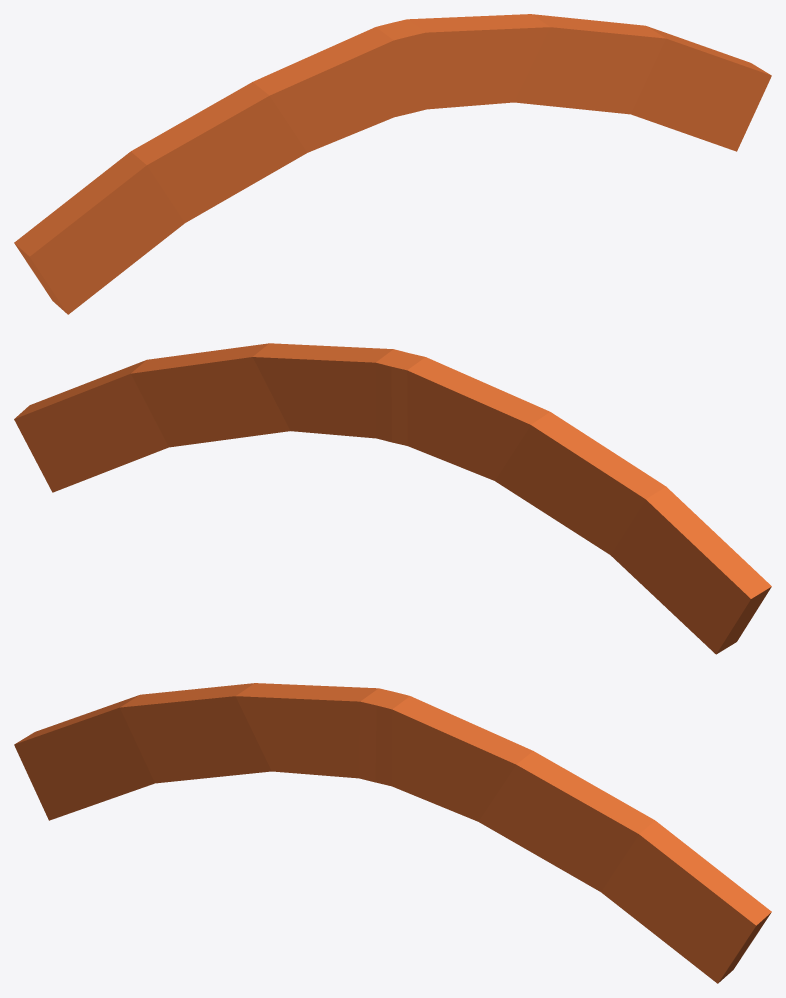
Rendered from mustache.glb.
The picture shows the model from 3 angles, top to bottom: view 1: azimuth 30°, elevation 25°; view 2: azimuth 150°, elevation 25°; view 3: azimuth 330°, elevation 25°; orthographic projection.
Visible parts, largest first — view 1: Cube.001; view 2: Cube.001; view 3: Cube.001.
Part boxes in pixels (x1,y1,x2,y2): Cube.001: [14, 14, 771, 314]; Cube.001: [14, 343, 771, 654]; Cube.001: [14, 683, 771, 983].
Bounding box in the file's own units: 0.5401 × 0.1405 × 0.0356.
